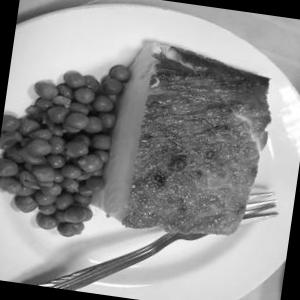casserole: (0, 0, 288, 275)
